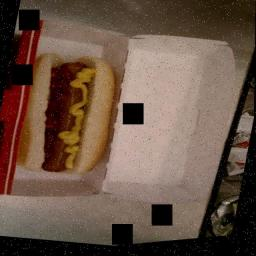hotdog: (38, 58, 92, 178)
